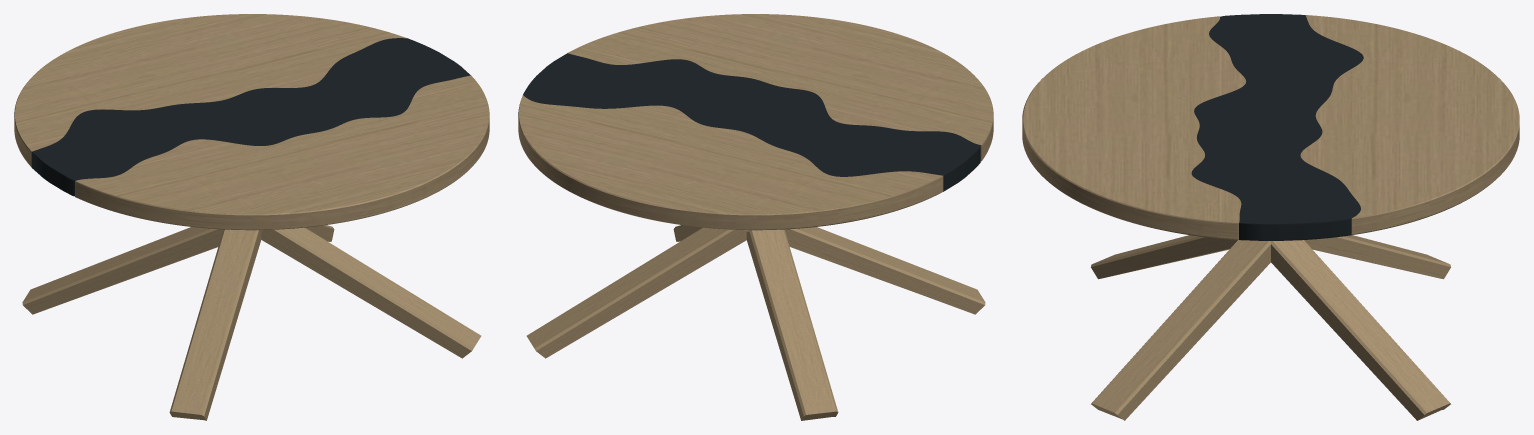
The model's file is round-ash-epoxy-black.glb.
3 renders of one model, left to right at view 1: azimuth 30°, elevation 25°; view 2: azimuth 150°, elevation 25°; view 3: azimuth 270°, elevation 25°, orthographic. The views are drawn at different scales.
Visible parts, largest first — view 1: Wood_Round_EpoxyFar, Wood_Round_EpoxyNear, Resin_Round, Base_Round; view 2: Wood_Round_EpoxyNear, Wood_Round_EpoxyFar, Resin_Round, Base_Round; view 3: Wood_Round_EpoxyFar, Wood_Round_EpoxyNear, Resin_Round, Base_Round.
Part boxes in pixels (box(x1,y1,x2,y2)): Wood_Round_EpoxyFar: box(75, 75, 489, 230); Wood_Round_EpoxyNear: box(14, 14, 406, 166); Resin_Round: box(31, 38, 470, 196); Base_Round: box(22, 225, 481, 420); Wood_Round_EpoxyNear: box(518, 95, 943, 230); Wood_Round_EpoxyFar: box(567, 14, 993, 161); Resin_Round: box(523, 53, 980, 191); Base_Round: box(526, 225, 985, 420); Wood_Round_EpoxyFar: box(1022, 16, 1245, 239); Wood_Round_EpoxyNear: box(1300, 15, 1519, 235); Resin_Round: box(1191, 14, 1363, 240); Base_Round: box(1091, 235, 1450, 420).
Size of the model in its own units: 1.52 by 0.762 by 1.52.
2 materials, 1 textured.
